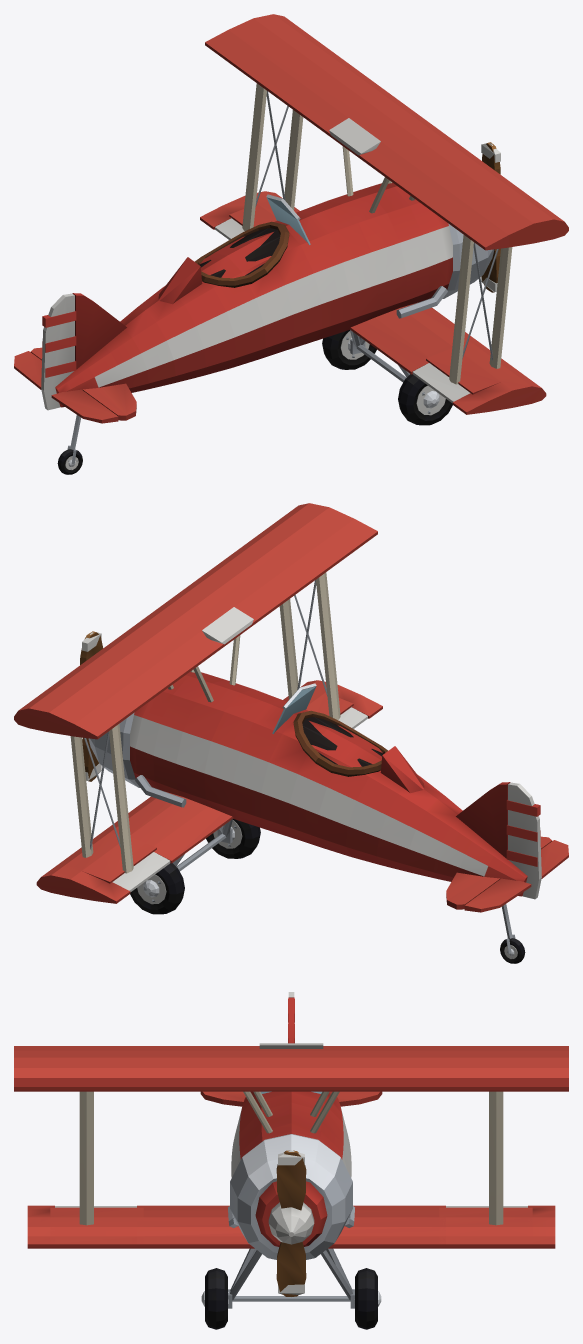
The model's file is mt_plane_red.glb.
3 views of the same model, one above another, from view 1: azimuth 30°, elevation 25°; view 2: azimuth 150°, elevation 25°; view 3: azimuth 270°, elevation 25° (orthographic).
Parts seen in each view (by area): view 1: base, rudder_m, elevator_m, wheelR_m, wheelL_m, aileronR_m, prop_m; view 2: base, rudder_m, elevator_m, wheelL_m, wheelR_m, aileronL_m, prop_m; view 3: base, prop_m, wheelL_m, wheelR_m.
Boxes of the visible parts, x1,y1,x2,y2 form: base: (30, 14, 568, 464); rudder_m: (41, 293, 76, 410); elevator_m: (14, 351, 118, 423); wheelR_m: (398, 374, 452, 425); wheelL_m: (322, 330, 376, 369); aileronR_m: (412, 363, 470, 403); prop_m: (481, 142, 500, 292); base: (14, 503, 552, 953); rudder_m: (506, 782, 541, 899); elevator_m: (464, 840, 568, 912); wheelL_m: (130, 863, 184, 914); wheelR_m: (206, 819, 260, 858); aileronL_m: (112, 852, 170, 892); prop_m: (80, 631, 103, 781); base: (14, 997, 568, 1308); prop_m: (268, 1150, 314, 1296); wheelL_m: (354, 1268, 381, 1329); wheelR_m: (201, 1268, 228, 1329).
Size of the model in its own units: 1.18 by 0.659 by 1.22.
